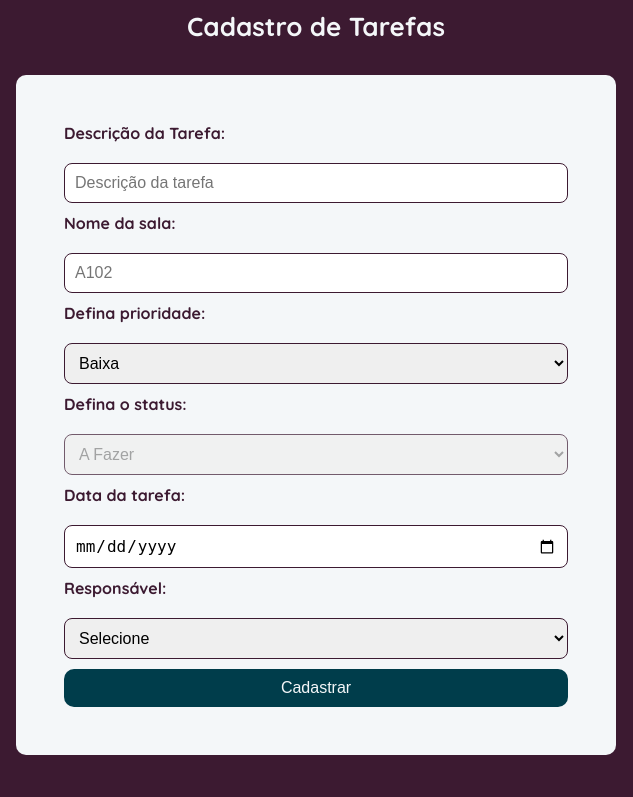
Test: Deve mostrar erro de data inválida
Type "teste" into the field labelled "Descrição da Tarefa:".
click(316, 183); type("teste")  # box [64, 163, 568, 203]
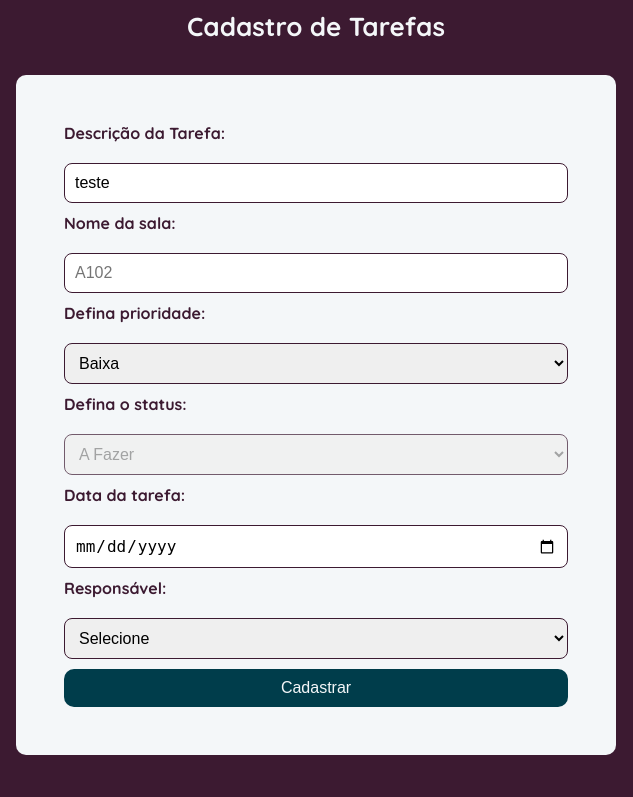
Type "A44" into the field labelled "Nome da sala:".
click(316, 273); type("A44")  # box [64, 253, 568, 293]
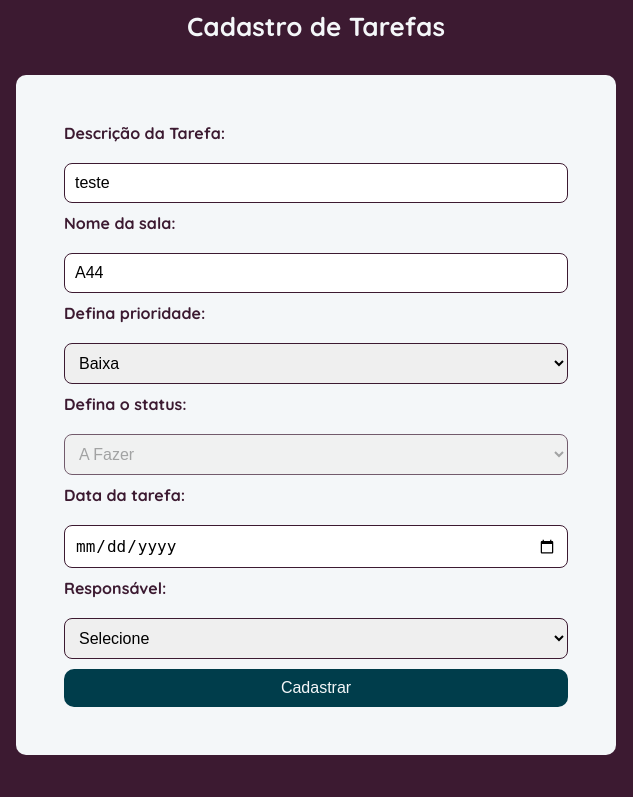
Type "1900-10-10" into the date field labelled "Data da tarefa:".
click(316, 546); type("1900-10-10")  # box [64, 525, 568, 568]
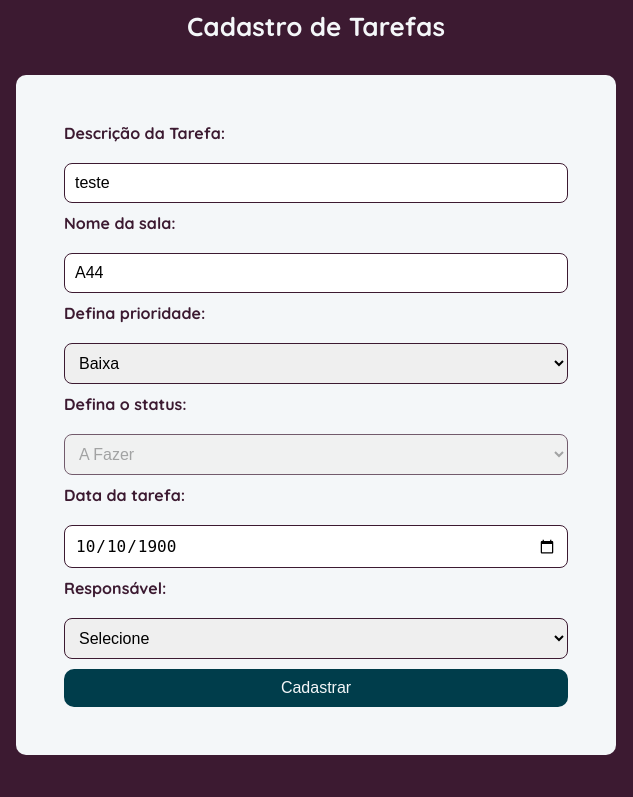
Select "Alta" in the dropdown labelled "Defina prioridade:" at (316, 364), box [64, 343, 568, 384]
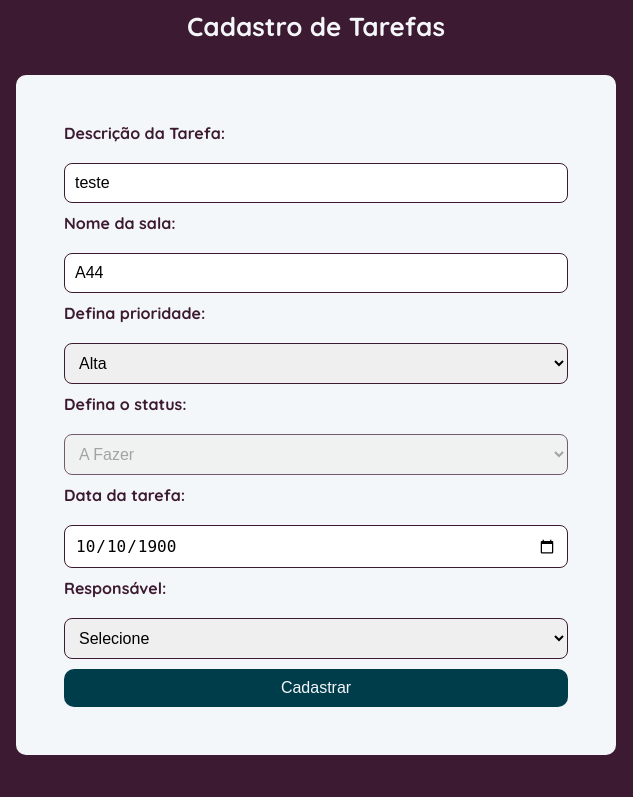
Select "A Fazer" in the dropdown labelled "Defina o status:" at (316, 454), box [64, 434, 568, 475]
Select "15" in the dropdown labelled "Responsável:" at (316, 638), box [64, 618, 568, 659]
Submit the form
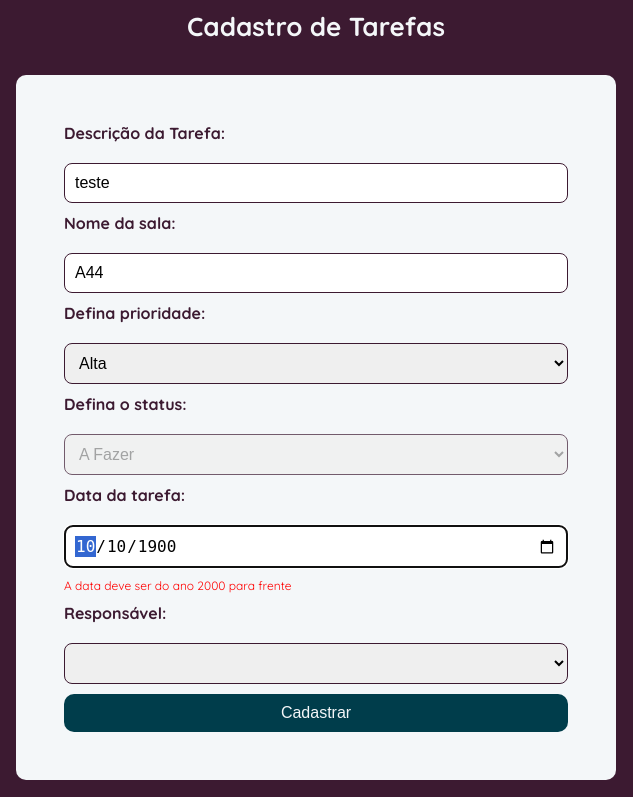
Result: the text "A data deve ser do ano 2000 para frente" is shown at [64, 578, 292, 593]
